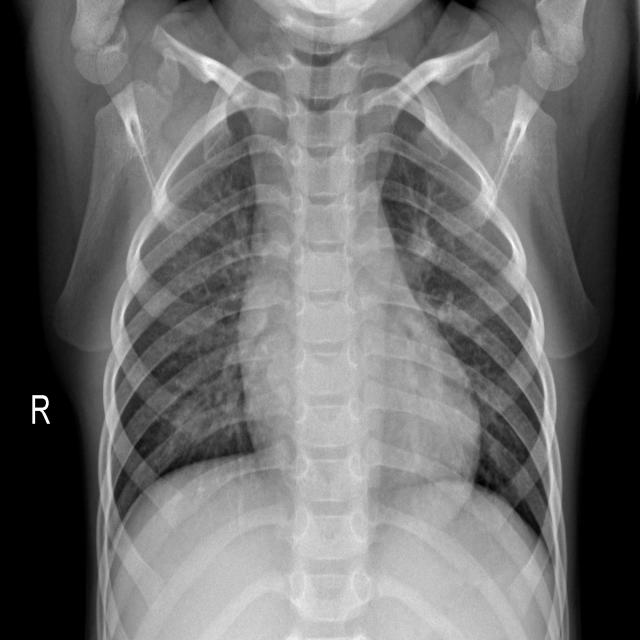normal_lung: (2, 0, 640, 640)
